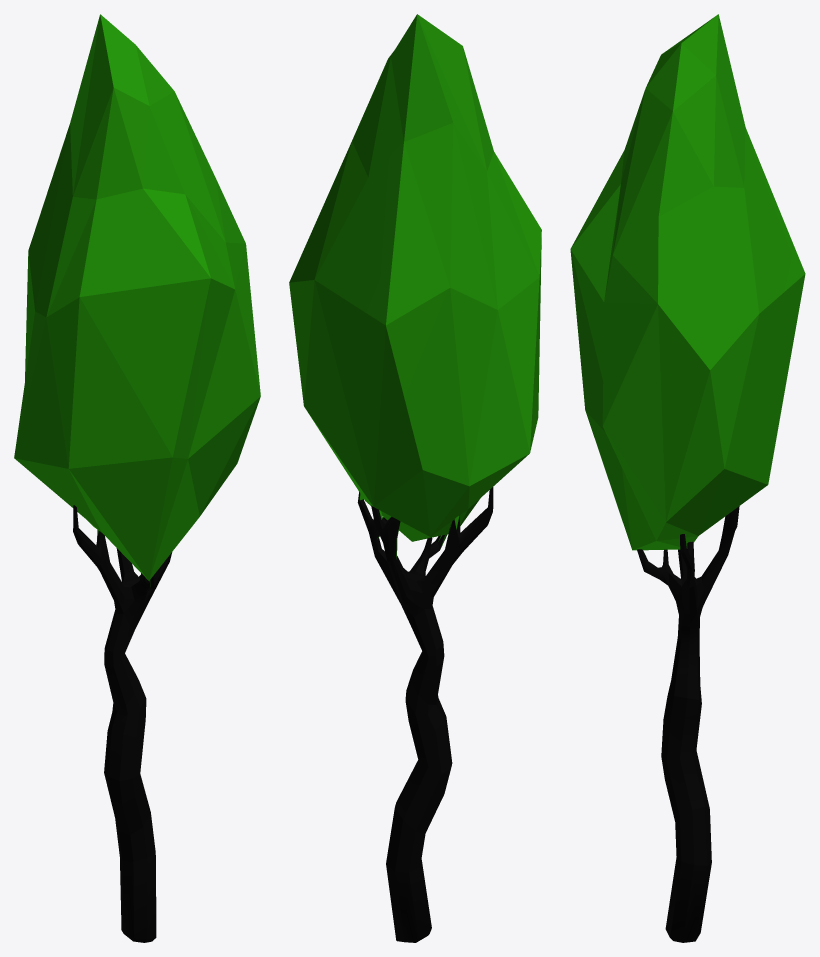
The model's file is Tree03_JT.fbx.
3 views of the same model, side by side, from view 1: azimuth 30°, elevation 25°; view 2: azimuth 150°, elevation 25°; view 3: azimuth 270°, elevation 25° (orthographic). The views are drawn at different scales.
Visible parts, largest first — view 1: Tree03_JT; view 2: Tree03_JT; view 3: Tree03_JT.
Boxes of the visible parts, x1,y1,x2,y2 form: Tree03_JT: [14, 14, 260, 942]; Tree03_JT: [289, 14, 541, 942]; Tree03_JT: [570, 14, 805, 942].
Size of the model in its own units: 152 by 592 by 138.
